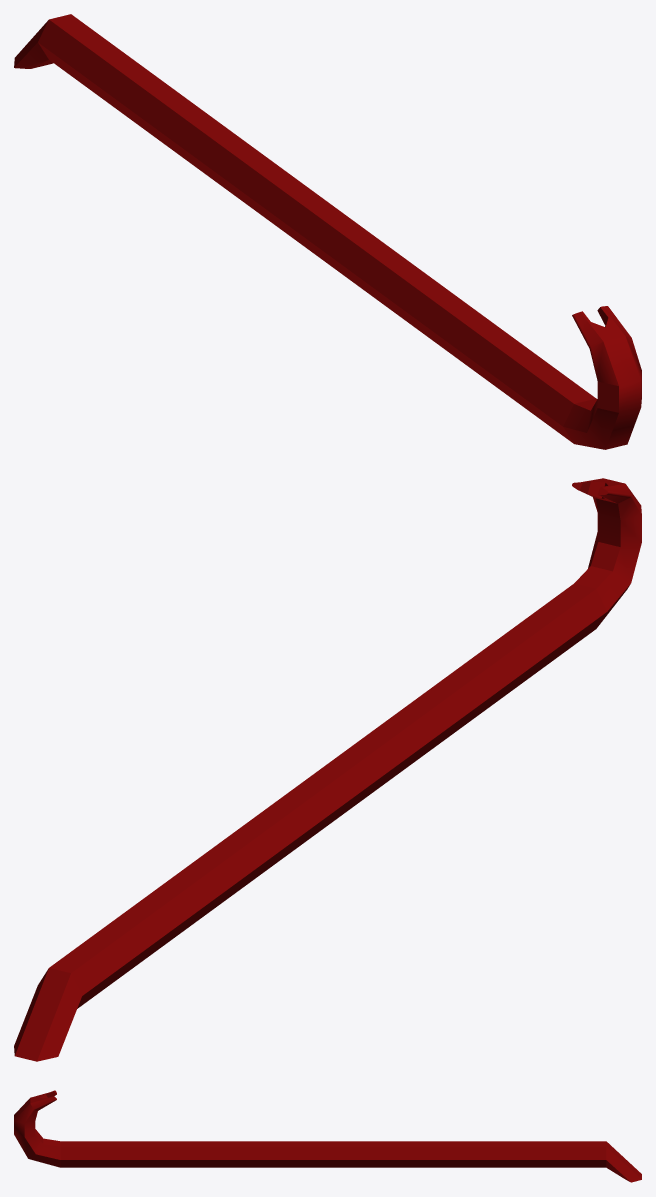
Rendered from Crowbar.fbx.
3 views of the same model, one above another, from view 1: azimuth 30°, elevation 25°; view 2: azimuth 150°, elevation 25°; view 3: azimuth 270°, elevation 25° (orthographic). The views are drawn at different scales.
Parts seen in each view (by area): view 1: Crowbar; view 2: Crowbar; view 3: Crowbar.
Part boxes in pixels (x1,y1,x2,y2): Crowbar: (14,14,641,449); Crowbar: (14,478,641,1061); Crowbar: (14,1090,641,1182).
Size of the model in its own units: 0.05 by 0.1724 by 1.18.
